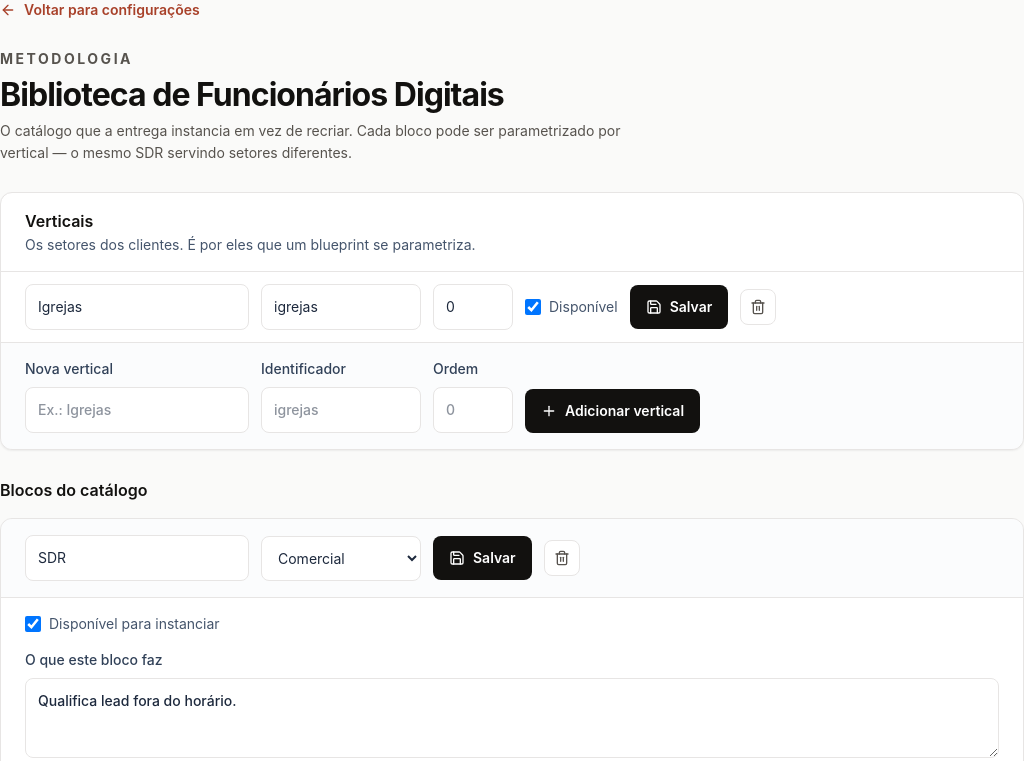
Test: mostra a recusa da exclusão em vez de engolir o erro
Expected: the field showing "SDR" is shown, [25,535,249,581]
Step 1. Click the button named "Excluir blueprint SDR" → (562, 558), box [544,540,580,576]
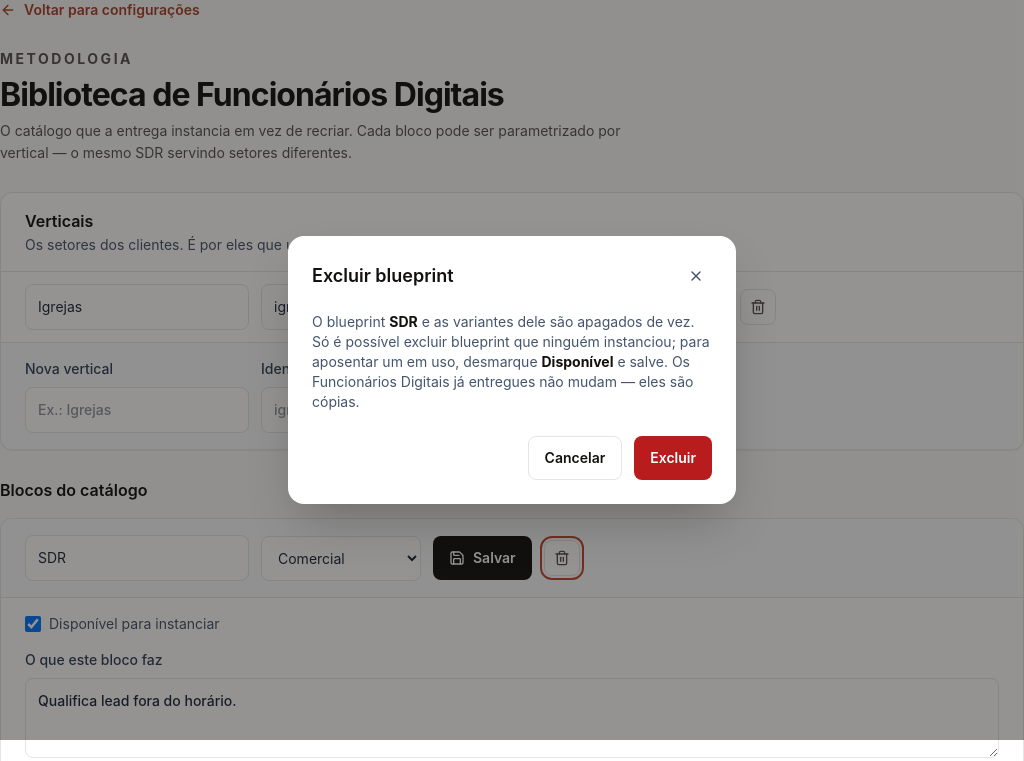
Step 2. Click the button "Excluir" → (673, 458), box [634,436,712,480]
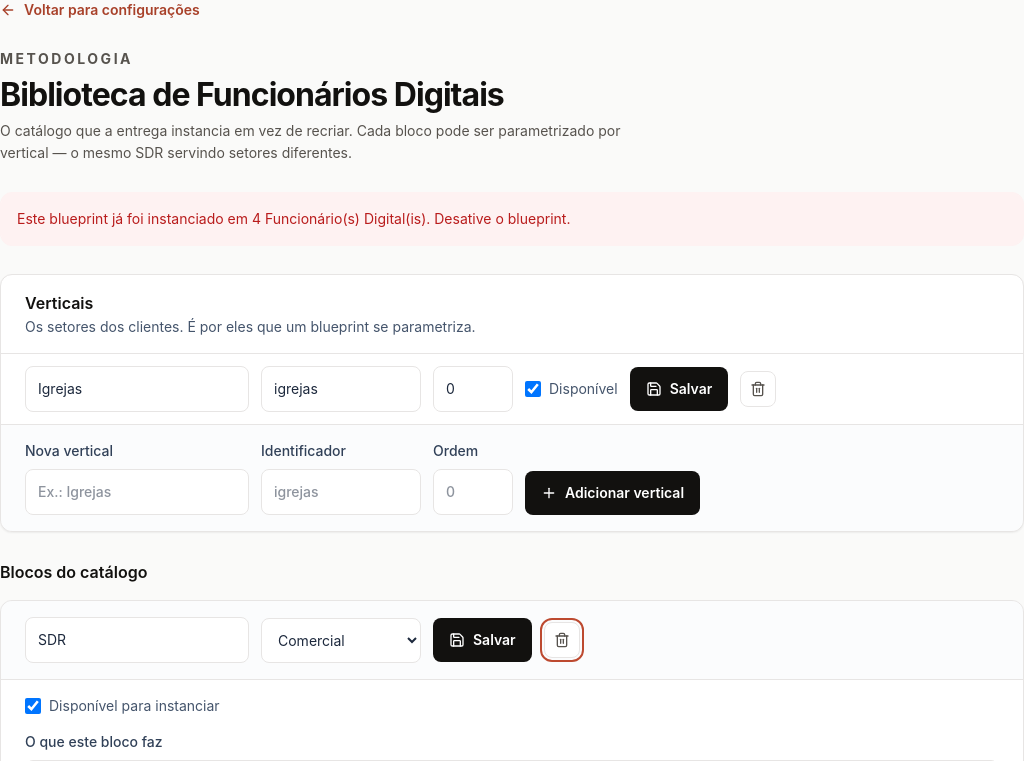
Now the message shows "Desative o blueprint", box [17,210,570,227]
